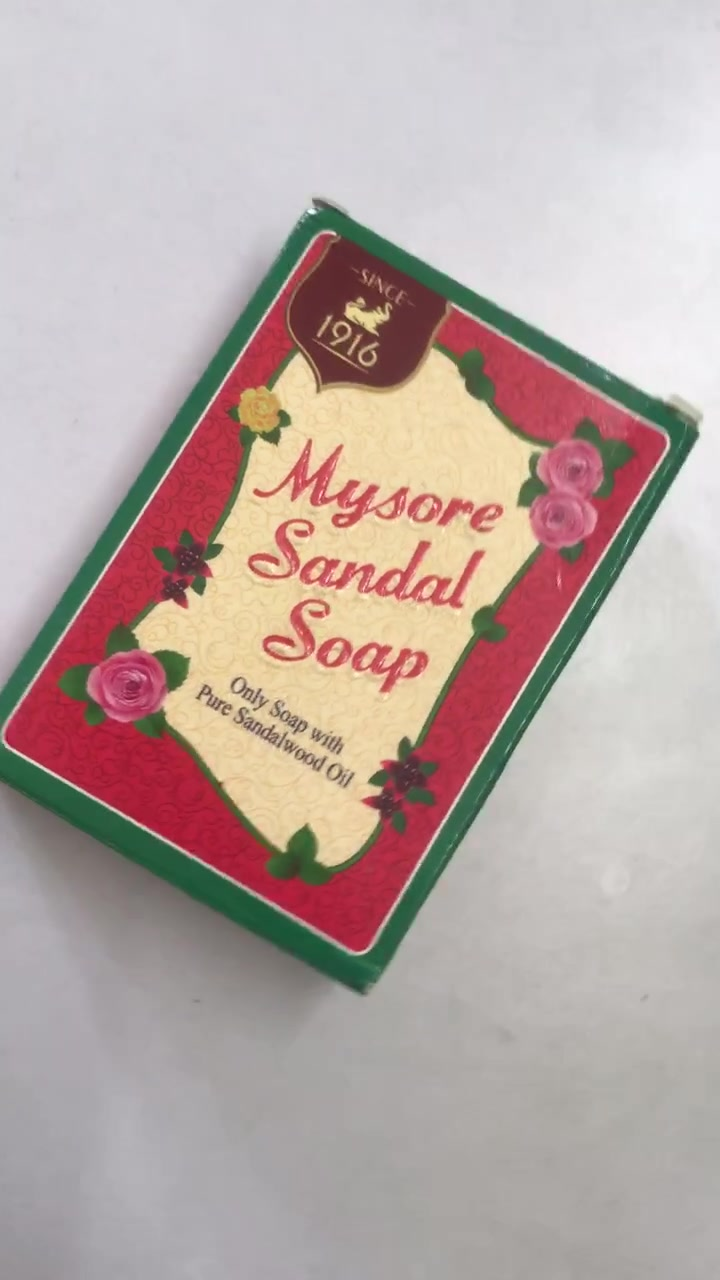mysore sandal soap: (6, 212, 701, 988)
